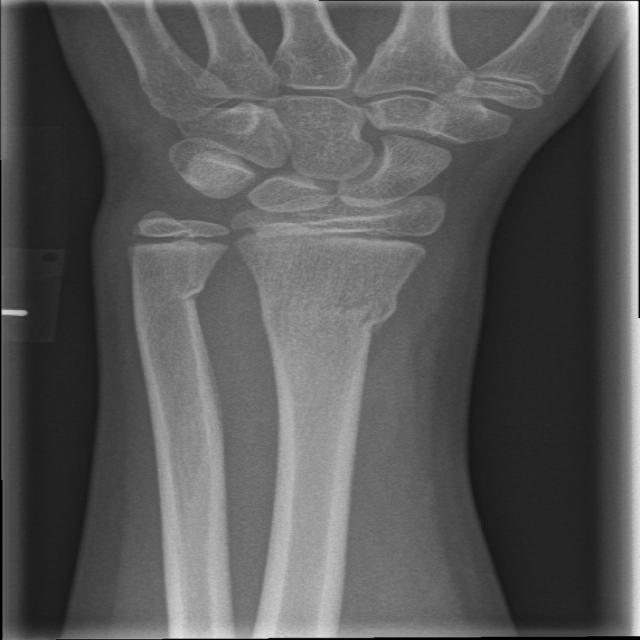radius fracture: (337, 260, 458, 386)
ulna fracture: (162, 254, 239, 360)
